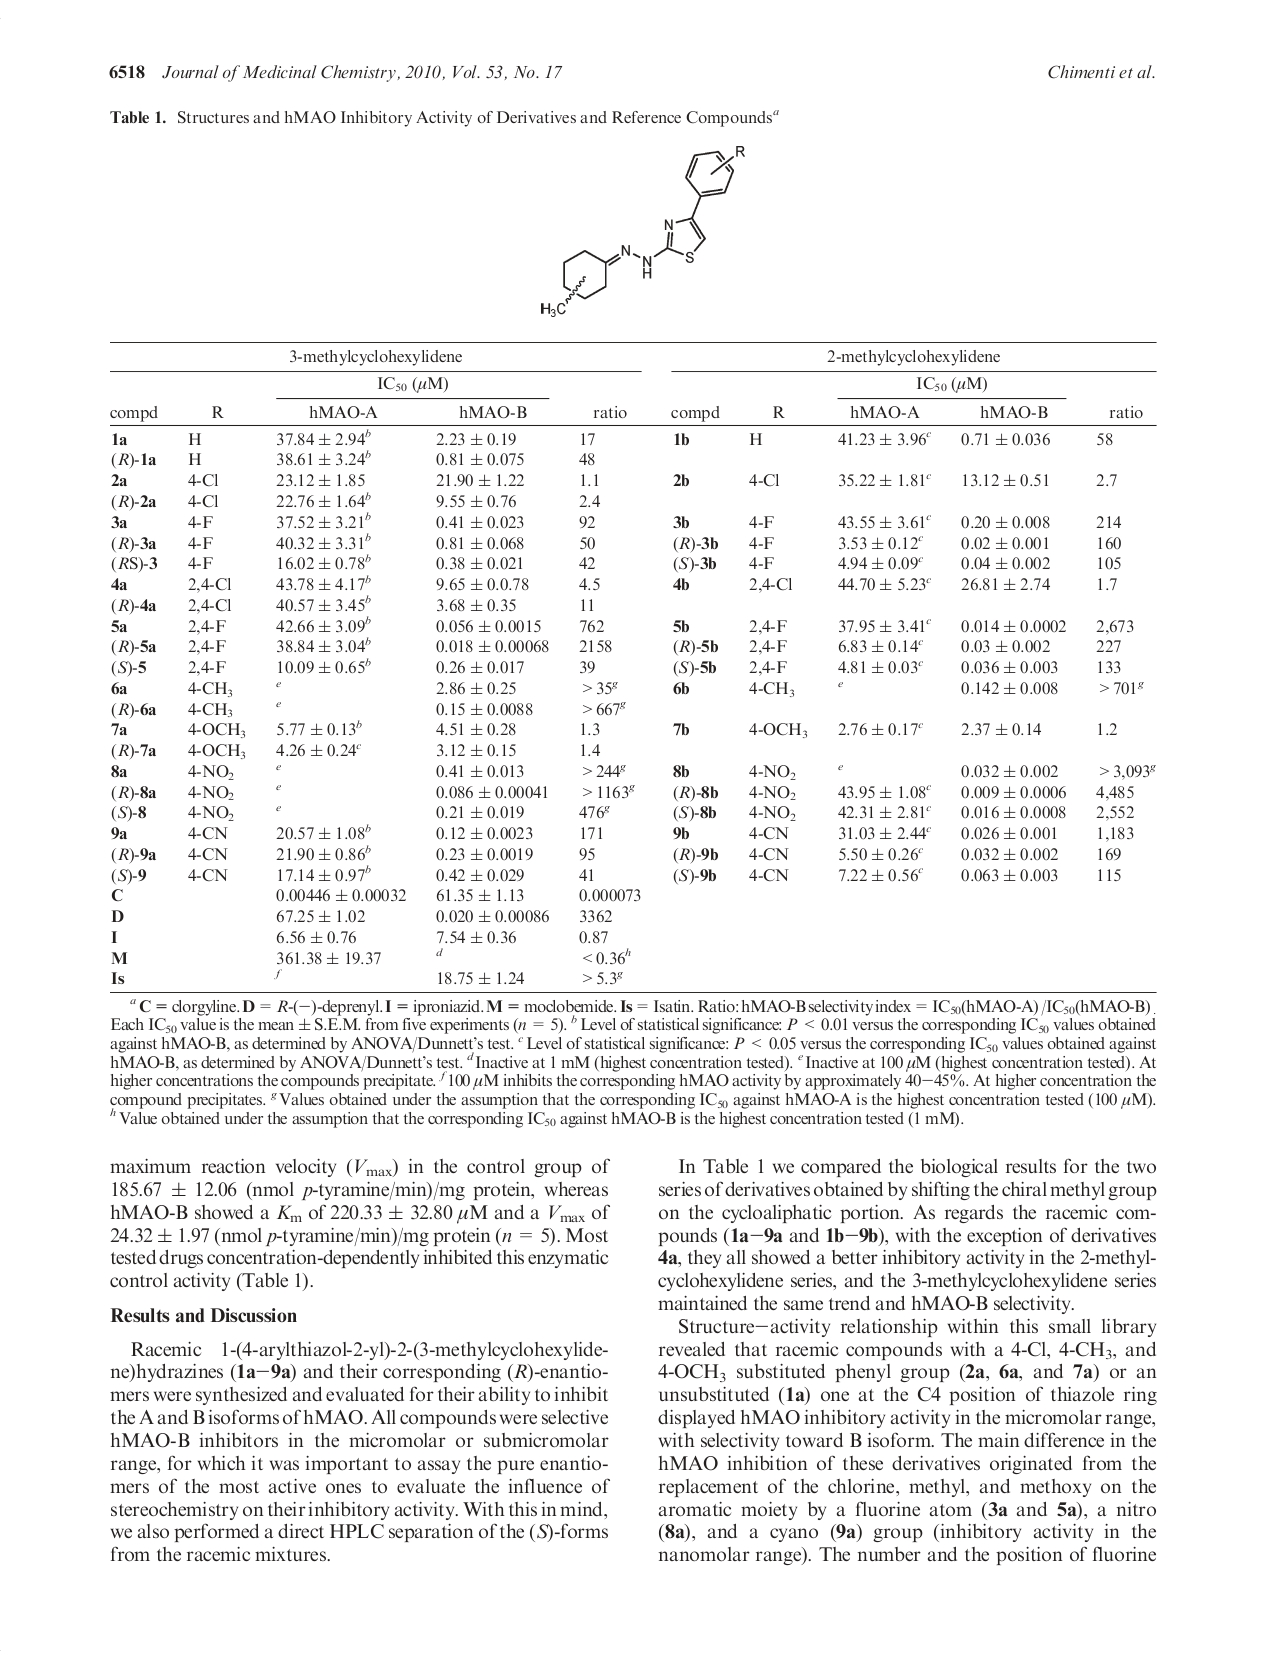exist_molecular: (537, 141, 761, 322)
